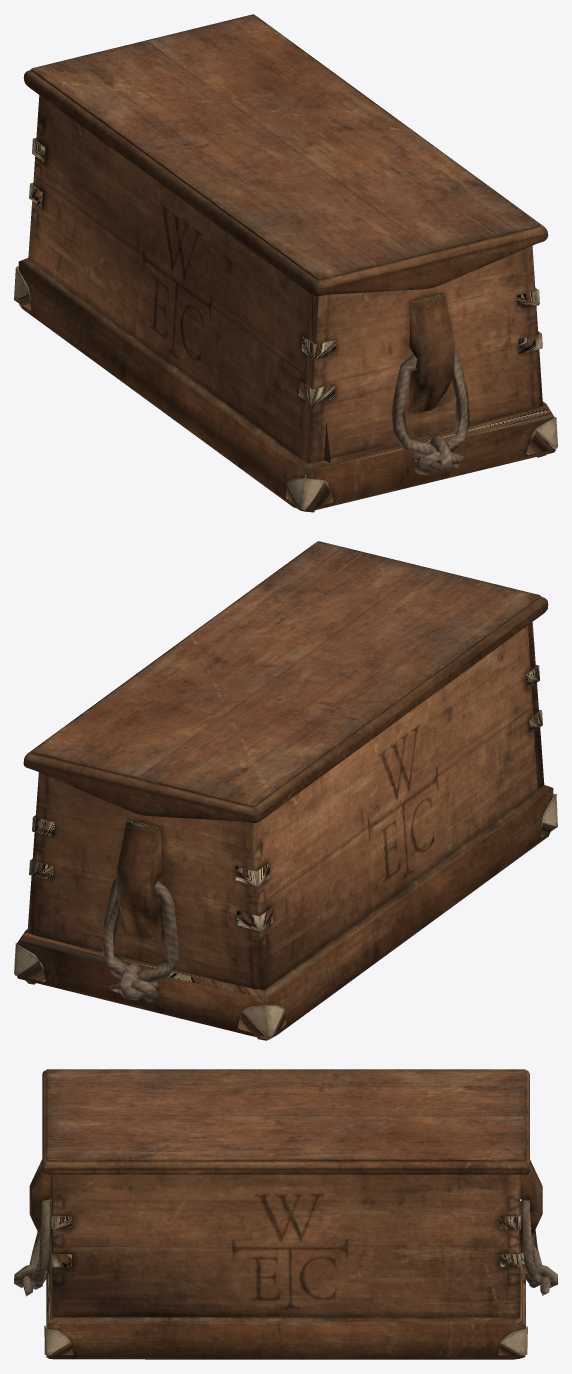
3 renders of one model, top to bottom at view 1: azimuth 30°, elevation 25°; view 2: azimuth 150°, elevation 25°; view 3: azimuth 270°, elevation 25°, orthographic. The views are drawn at different scales.
Parts seen in each view (by area): view 1: wooden_crate_02-0, wooden_crate_02-1; view 2: wooden_crate_02-0, wooden_crate_02-1; view 3: wooden_crate_02-0, wooden_crate_02-1.
Boxes of the visible parts, x1,y1,x2,y2 form: wooden_crate_02-0: (14, 95, 557, 512); wooden_crate_02-1: (23, 14, 548, 296); wooden_crate_02-0: (14, 622, 557, 1040); wooden_crate_02-1: (23, 541, 548, 822); wooden_crate_02-0: (14, 1159, 557, 1359); wooden_crate_02-1: (42, 1069, 529, 1174).
Size of the model in its own units: 1.14 by 0.9975 by 2.5.
Materials: 1 (1 with a texture image).
